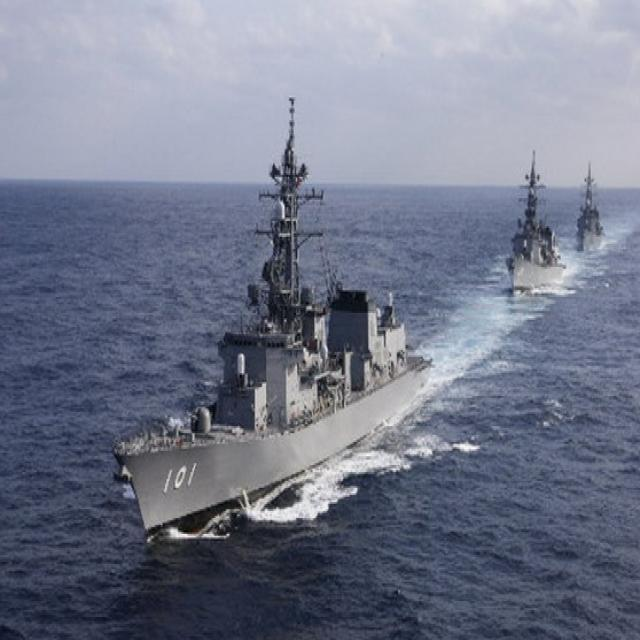navalvessels: (118, 95, 435, 546), (506, 146, 570, 302), (576, 165, 618, 250)
